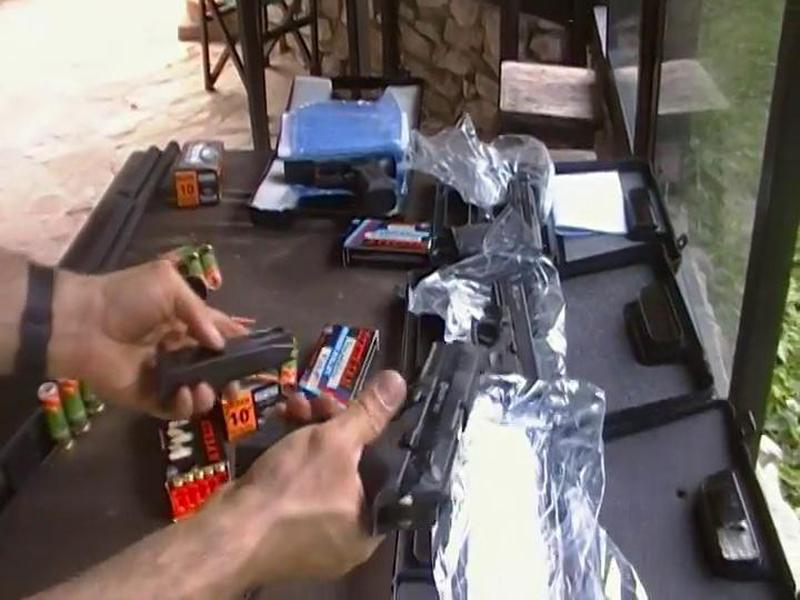Pistola: (246, 321, 508, 541)
